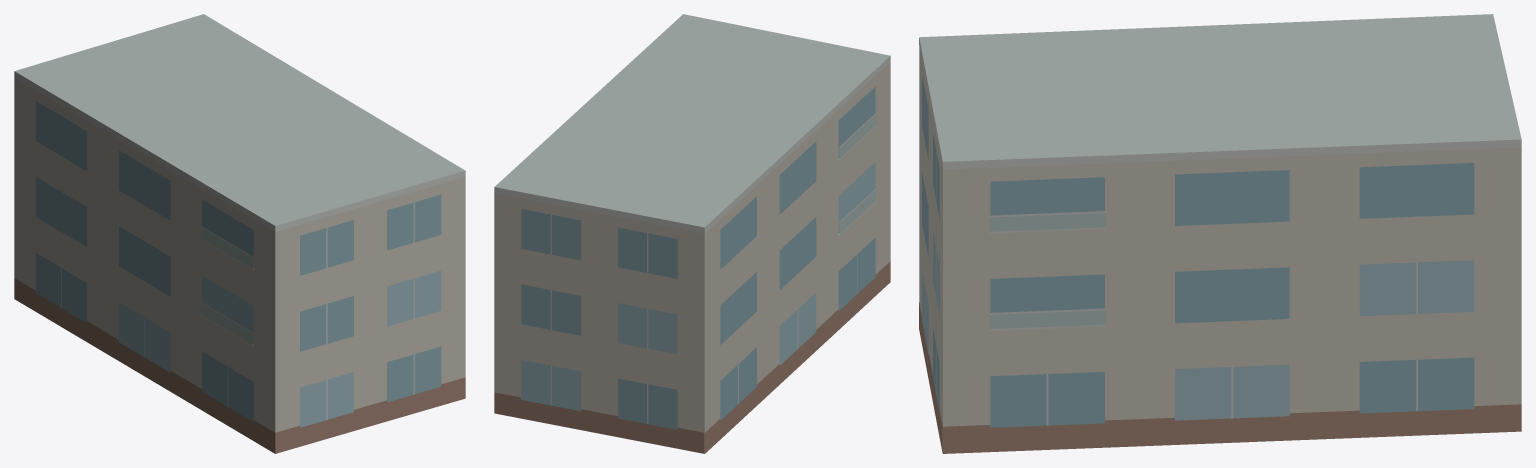
Rendered from survey-upis-32620995.glb.
The picture shows the model from 3 angles, left to right: view 1: azimuth 30°, elevation 25°; view 2: azimuth 150°, elevation 25°; view 3: azimuth 270°, elevation 25°; orthographic projection. The views are drawn at different scales.
Visible parts, largest first — view 1: survey-upis-32620995.tmp; view 2: survey-upis-32620995.tmp; view 3: survey-upis-32620995.tmp.
Part boxes in pixels (x1,y1,x2,y2): survey-upis-32620995.tmp: (14, 14, 465, 453); survey-upis-32620995.tmp: (494, 14, 890, 453); survey-upis-32620995.tmp: (919, 14, 1521, 453).
Size of the model in its own units: 9.95 by 9.15 by 17.12.
